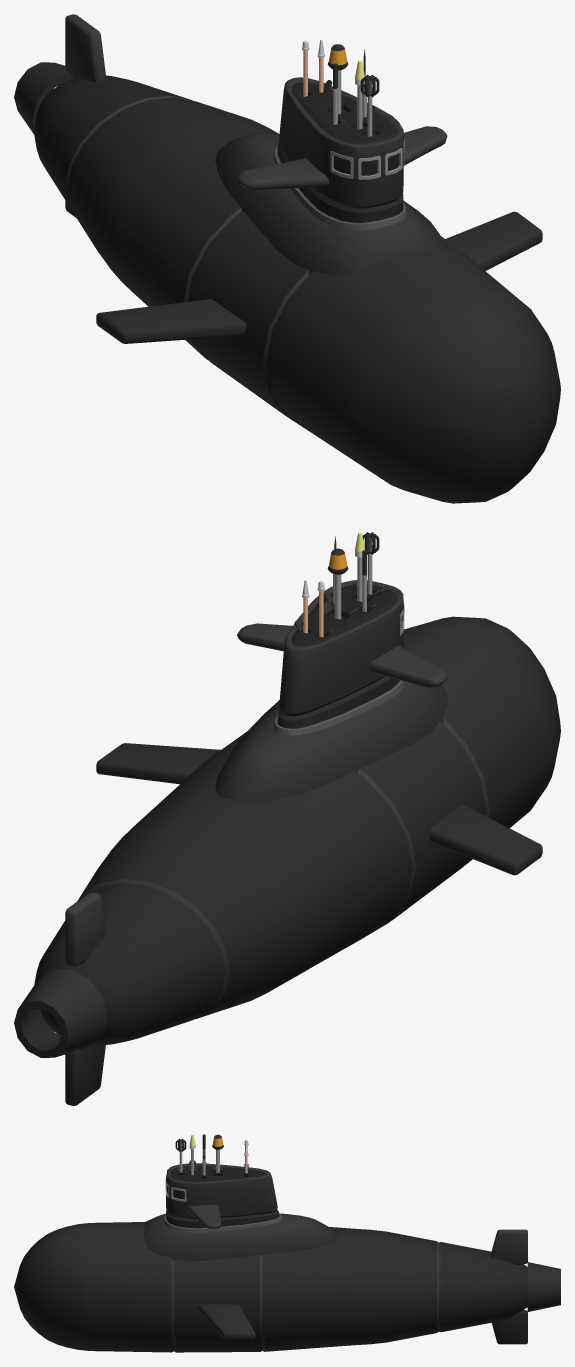
File: submarine_001.fbx
The picture shows the model from 3 angles, top to bottom: view 1: azimuth 30°, elevation 25°; view 2: azimuth 150°, elevation 25°; view 3: azimuth 270°, elevation 25°; orthographic projection. The views are drawn at different scales.
Visible parts, largest first — view 1: submarine_001; view 2: submarine_001; view 3: submarine_001.
Boxes of the visible parts, box(x1,y1,x2,y2) form: submarine_001: box(14, 14, 560, 503); submarine_001: box(14, 532, 560, 1105); submarine_001: box(14, 1134, 560, 1352).
Bounding box in the file's own units: 2408 × 4682 × 2003.
